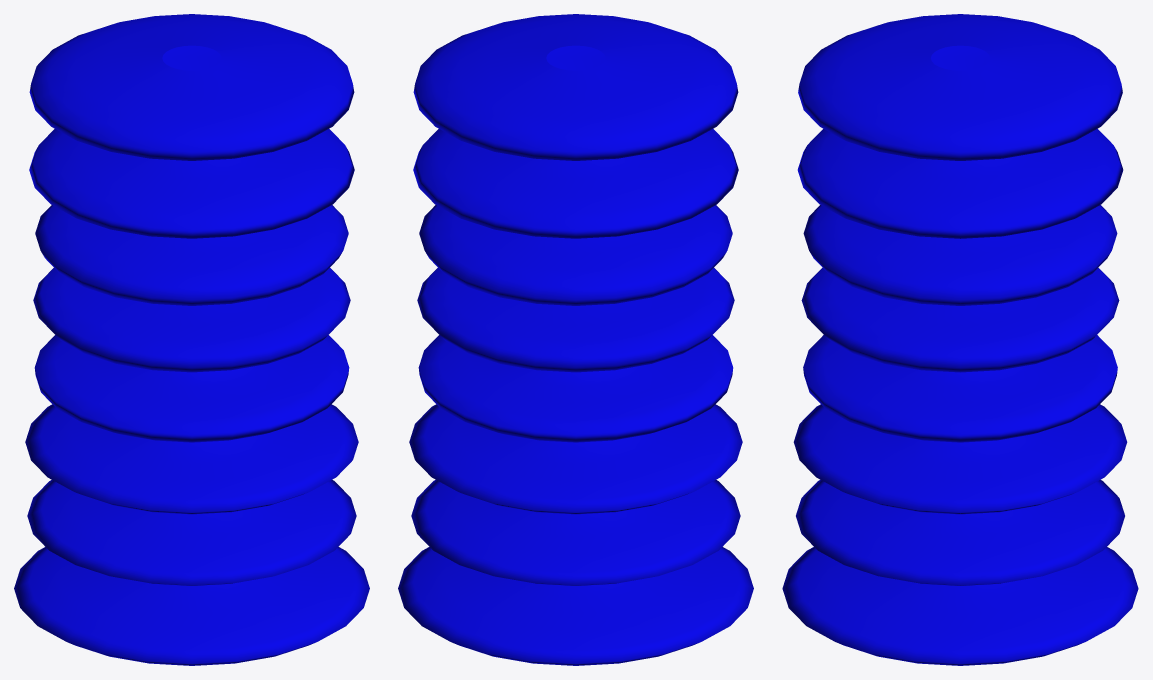
Rendered from BlueVaseModel.fbx.
3 renders of one model, left to right at view 1: azimuth 30°, elevation 25°; view 2: azimuth 150°, elevation 25°; view 3: azimuth 270°, elevation 25°, orthographic.
Visible parts, largest first — view 1: nurbsToPoly1; view 2: nurbsToPoly1; view 3: nurbsToPoly1.
Part boxes in pixels (<box>): nurbsToPoly1: <box>14,14,369,665</box>; nurbsToPoly1: <box>398,14,753,665</box>; nurbsToPoly1: <box>782,14,1138,665</box>.
Bounding box in the file's own units: 45.75 × 79.1 × 45.75.
